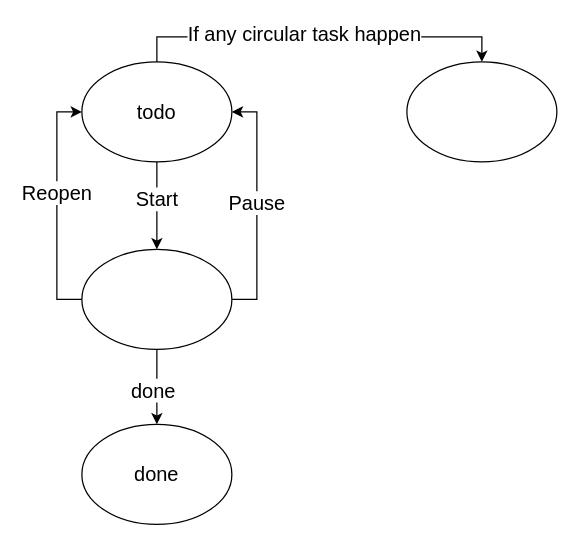
Some shapes in this 579 by 546 pixel diagram are drawn without their labels. The shapes that lost their labels are listed below. From the top down, each one's centre as x and y in pixels, then its label:
At point (481, 111): "blocked".
At point (156, 298): "in progress".
